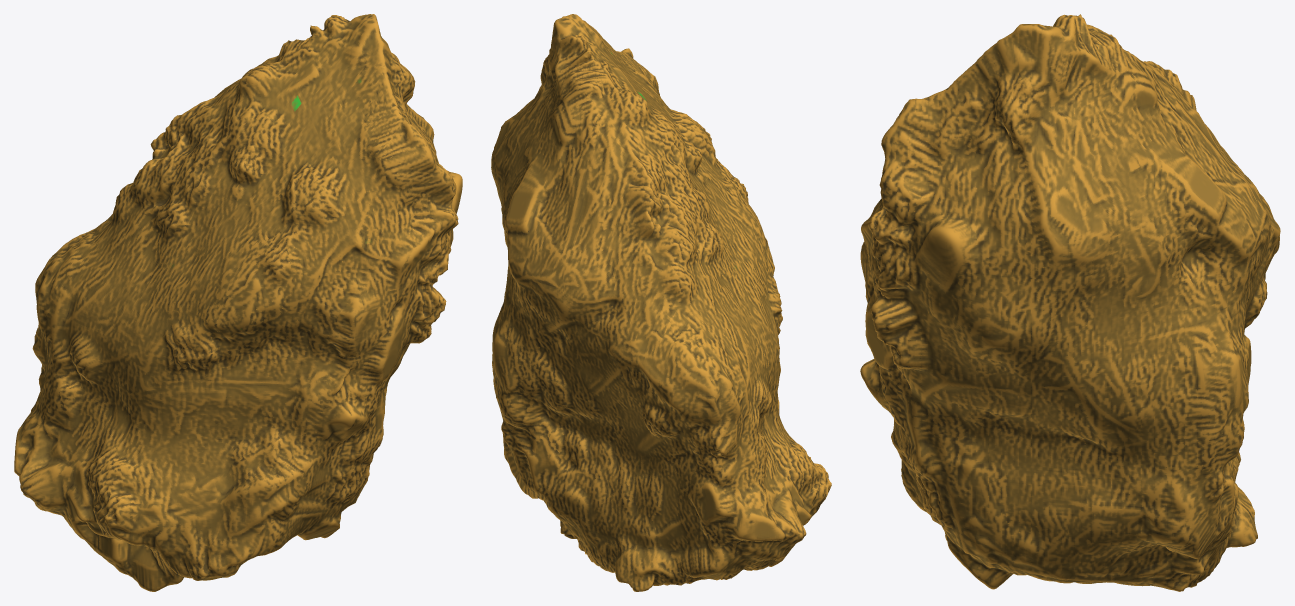
File: gold.glb
3 views of the same model, side by side, from view 1: azimuth 30°, elevation 25°; view 2: azimuth 150°, elevation 25°; view 3: azimuth 270°, elevation 25° (orthographic). The views are drawn at different scales.
Parts seen in each view (by area): view 1: Volume9; view 2: Volume9; view 3: Volume9.
Boxes of the visible parts, <box> form: Volume9: <box>14,14,462,591</box>; Volume9: <box>491,14,831,591</box>; Volume9: <box>860,14,1280,591</box>.
Bounding box in the file's own units: 11.12 × 14.99 × 9.01.
1 material, 1 textured.
